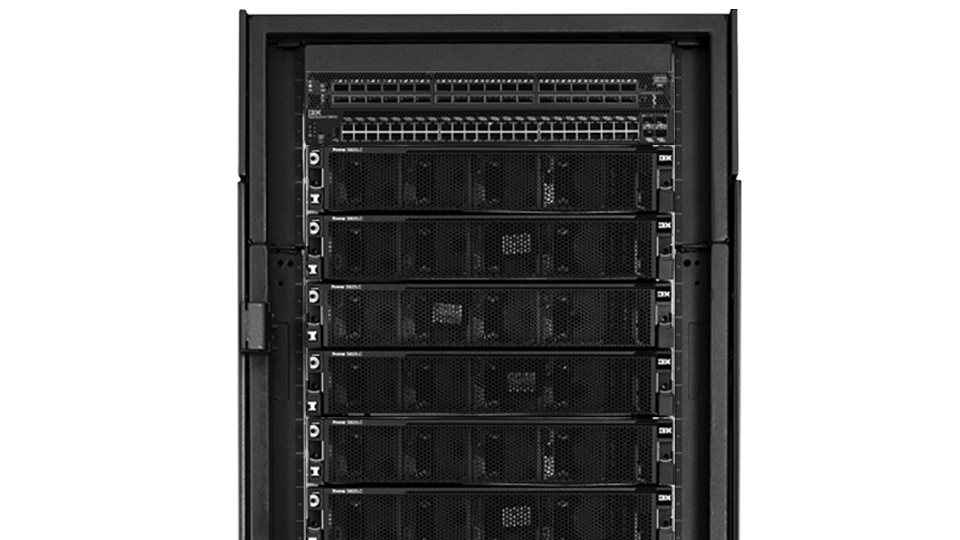ibm-server: (223, 5, 752, 529), (300, 137, 683, 226), (299, 276, 690, 360)
